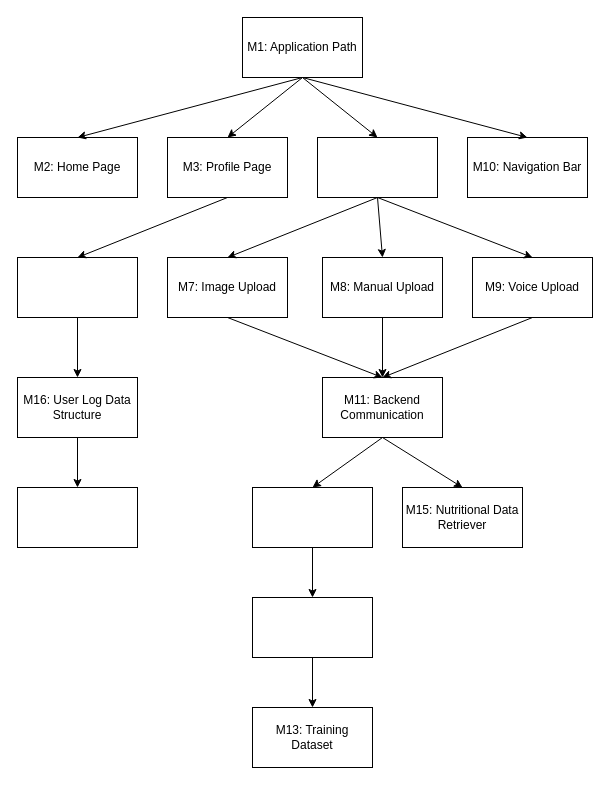
The diagram is 610 pixels wide and 785 high, and some of its shapes have lost their labels. Each missing label, with the centre of its shape:
"M12: Input Pre-Processing" goes at (x=312, y=517).
"M14: Image Classification" goes at (x=312, y=627).
"M4: Nutrition Log" goes at (x=77, y=287).
"M5: Food Entry" goes at (x=77, y=517).
"M6: Upload Page" goes at (x=377, y=167).
